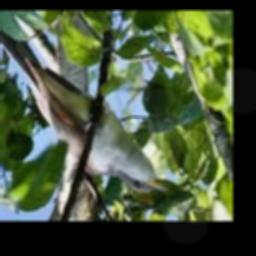Cuckoo: (0, 10, 167, 193)
